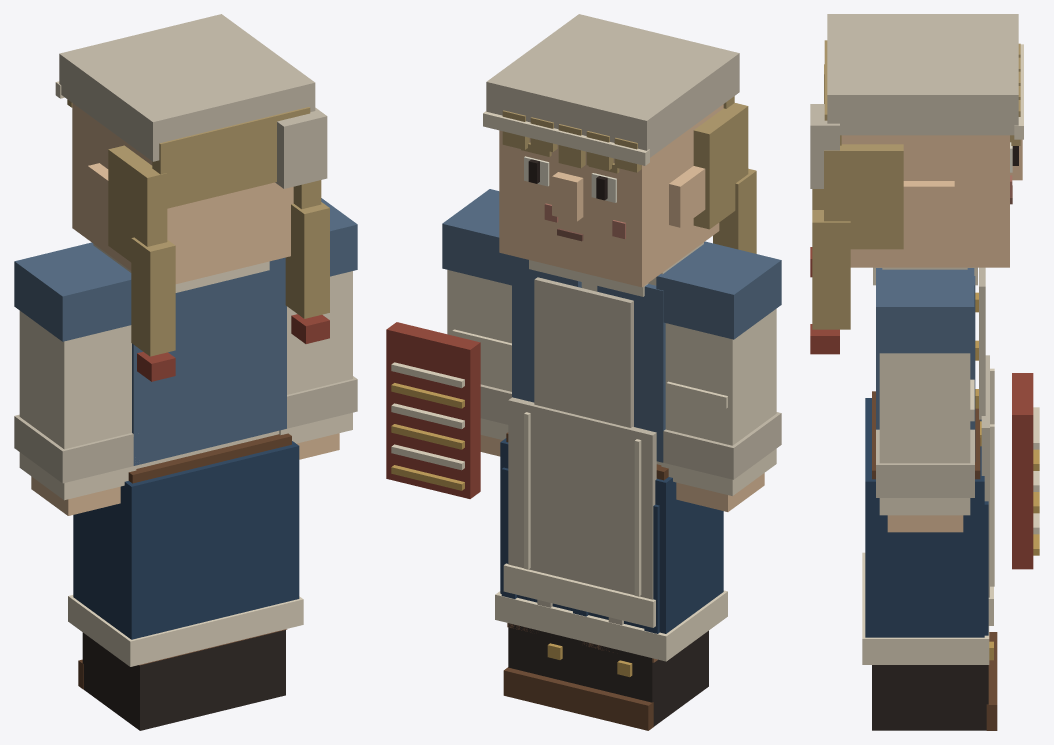
Rendered from seamstress.obj.
The picture shows the model from 3 angles, left to right: view 1: azimuth 30°, elevation 25°; view 2: azimuth 150°, elevation 25°; view 3: azimuth 270°, elevation 25°; orthographic projection. The views are drawn at different scales.
Parts seen in each view (by area): view 1: head, body, right_arm, left_arm, right_leg, left_leg; view 2: body, head, right_arm, equipment_left, left_arm, right_leg, left_leg; view 3: head, left_arm, body, left_leg, equipment_left.
Part boxes in pixels (<box>): head: <box>55,14,329,381</box>; body: <box>68,244,303,666</box>; right_arm: <box>14,242,136,515</box>; left_arm: <box>279,198,357,459</box>; right_leg: <box>78,632,216,730</box>; left_leg: <box>210,629,287,713</box>; body: <box>495,242,727,661</box>; head: <box>483,14,756,287</box>; right_arm: <box>656,241,781,511</box>; equipment_left: <box>386,322,480,498</box>; left_arm: <box>442,189,511,456</box>; right_leg: <box>573,630,708,730</box>; left_leg: <box>503,623,582,713</box>; head: <box>810,14,1023,354</box>; left_arm: <box>876,268,974,532</box>; body: <box>862,267,994,664</box>; left_leg: <box>872,641,997,730</box>; equipment_left: <box>1012,373,1039,569</box>.
Bounding box in the file's own units: 1.12 × 2.08 × 0.675.
